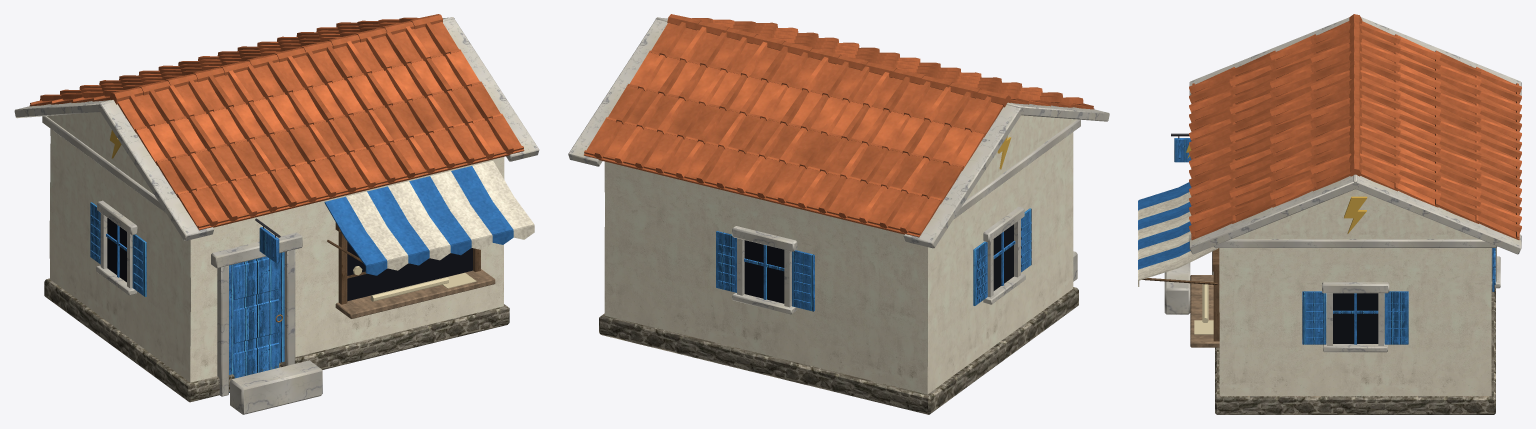
The model's file is biz_scroll-shop_t1.glb.
3 renders of one model, left to right at view 1: azimuth 30°, elevation 25°; view 2: azimuth 150°, elevation 25°; view 3: azimuth 270°, elevation 25°, orthographic. The views are drawn at different scales.
Parts seen in each view (by area): view 1: cream, terracotta0, terracotta1, marble, terracotta2, azure_wood, stone_dark, cloth_azure, cloth_cream, dark, wood, wood_dark (+1 smaller); view 2: cream, terracotta0, terracotta1, terracotta2, marble, stone_dark, azure_wood, dark; view 3: cream, terracotta0, terracotta1, terracotta2, marble, stone_dark, azure_wood, cloth_cream, cloth_azure, dark, wood, wood_dark (+2 smaller).
Part boxes in pixels (x1,y1,x2,y2): cream: (47, 112, 504, 382); terracotta0: (29, 17, 524, 230); terracotta1: (30, 14, 523, 228); marble: (14, 17, 539, 414); terracotta2: (51, 19, 502, 216); azure_wood: (90, 202, 284, 392); stone_dark: (44, 278, 509, 402); cloth_azure: (324, 166, 513, 275); cloth_cream: (346, 161, 534, 270); dark: (107, 218, 472, 301); wood: (335, 269, 495, 318); wood_dark: (327, 222, 480, 304); cream: (604, 115, 1076, 394); terracotta0: (584, 18, 1094, 237); terracotta1: (584, 14, 1093, 235); terracotta2: (605, 19, 1071, 223); marble: (568, 17, 1109, 314); stone_dark: (599, 287, 1078, 414); azure_wood: (716, 208, 1031, 311); dark: (744, 224, 1013, 303); cream: (1219, 189, 1491, 396); terracotta0: (1189, 21, 1521, 240); terracotta1: (1189, 14, 1521, 238); terracotta2: (1189, 35, 1521, 224); marble: (1164, 17, 1521, 352); stone_dark: (1215, 288, 1495, 414); azure_wood: (1174, 138, 1495, 344); cloth_cream: (1138, 192, 1218, 286); cloth_azure: (1138, 182, 1191, 269); dark: (1333, 293, 1378, 343); wood: (1190, 275, 1219, 347); wood_dark: (1142, 248, 1219, 341).
Bounding box in the file's own units: 6.1 × 4.25 × 5.93.
16 materials, 13 textured.
